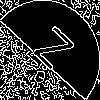Z: (24, 25, 76, 80)
